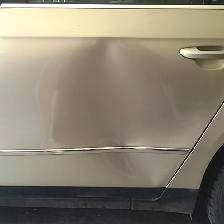door_dent: (35, 36, 202, 179)
